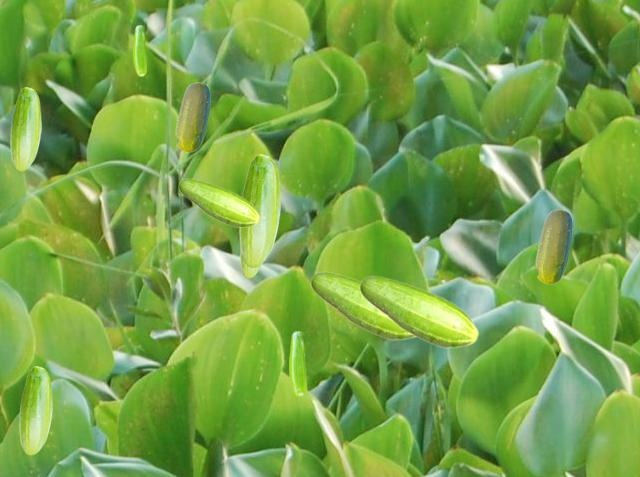cucumber: (359, 275, 478, 348), (310, 271, 414, 340), (239, 154, 279, 266), (178, 178, 259, 227), (19, 366, 51, 454), (535, 209, 571, 283), (10, 87, 40, 170), (175, 82, 209, 151), (289, 331, 305, 395), (133, 25, 145, 75), (240, 251, 261, 277)
